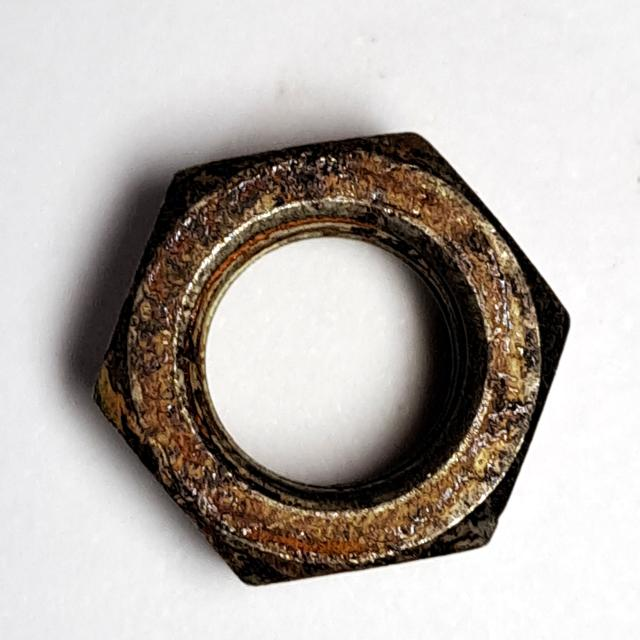Rust: (81, 119, 583, 604)
